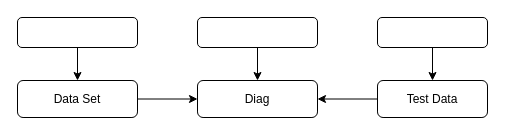
The diagram is 505 pixels wide and 135 high, and some of its shapes have lost their labels. The shapes that lost their labels are listed below. From the top down, each one's box as (x1, y1, x2, y2) in pixels, then its label:
(196, 16, 318, 48): Cov
(376, 16, 488, 48): ADL
